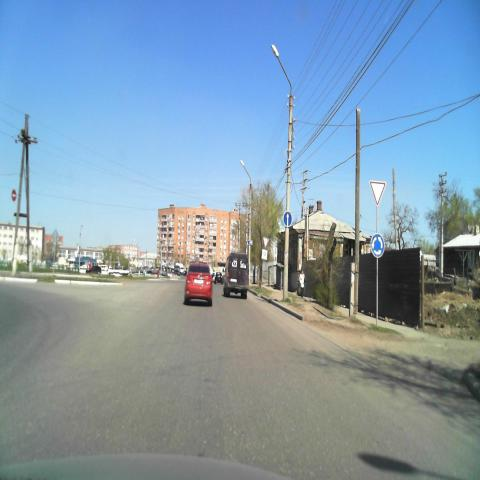4_3: (370, 234, 385, 258)
